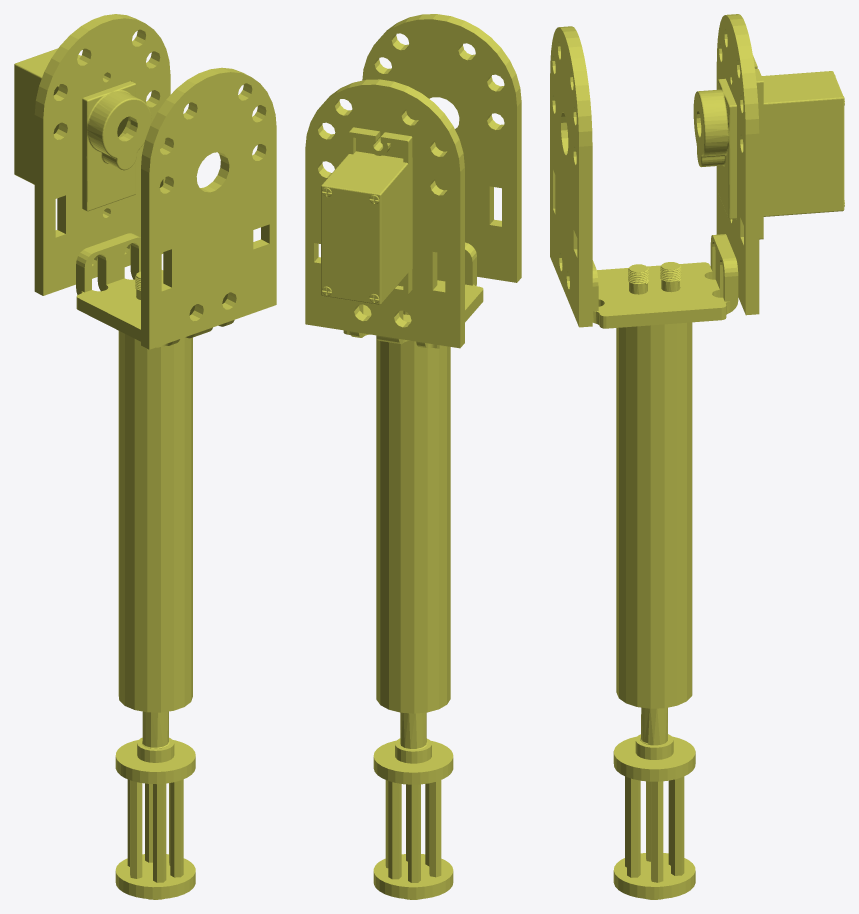
File: Link_giro_brazo.dae
3 renders of one model, left to right at view 1: azimuth 30°, elevation 25°; view 2: azimuth 150°, elevation 25°; view 3: azimuth 270°, elevation 25°, orthographic. The views are drawn at different scales.
Visible parts, largest first — view 1: Link_giro_brazo; view 2: Link_giro_brazo; view 3: Link_giro_brazo.
Boxes of the visible parts, <box> form: Link_giro_brazo: <box>14,14,276,899</box>; Link_giro_brazo: <box>305,14,521,899</box>; Link_giro_brazo: <box>550,14,844,899</box>.
Size of the model in its own units: 0.0363 by 0.054 by 0.1744.
